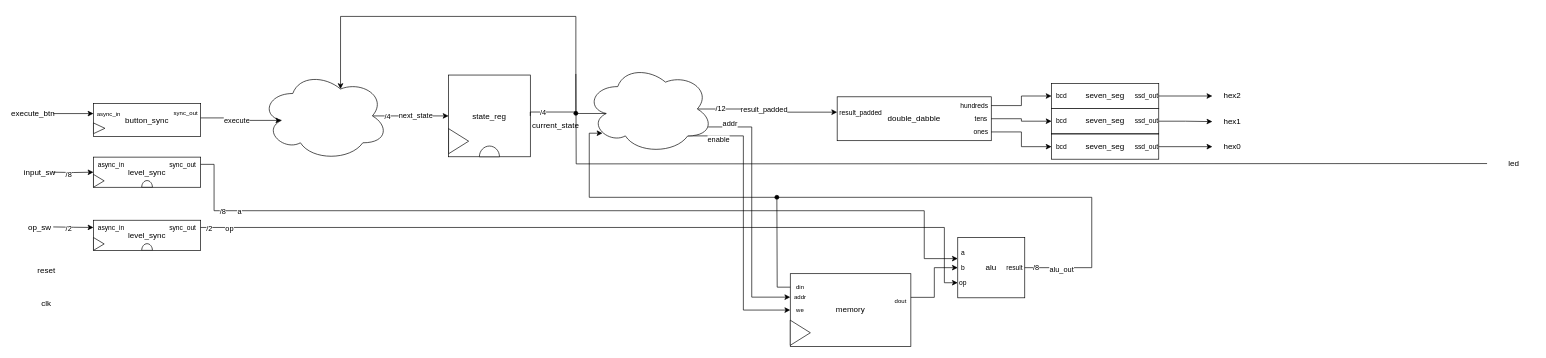
This 1546x358 diagram has some shape labels left out. The centre of each missing label's shape, as x and y in pixels:
NSL (process): [324,115]
output_logic (process): [649,109]
